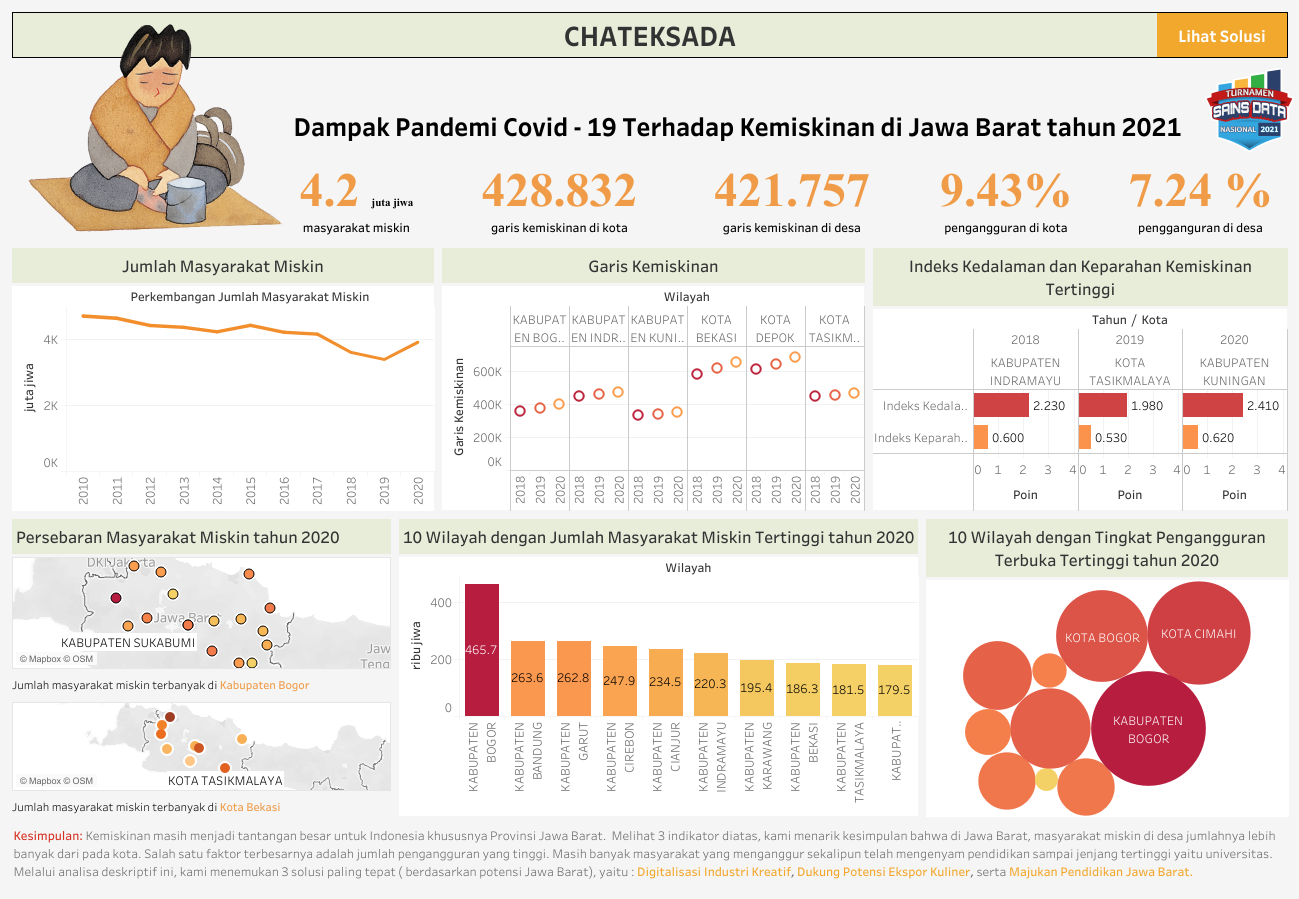

This screenshot's page, from the dashboard's own definition file:
{"tool":"tableau","page":{"name":"Analisa Kemiskinan - Dashboard 1","canvas":[1300,900],"ordinal":0},"visuals":[{"type":"title","box":[8,8,1284,54]},{"type":"dashboard-object","box":[1157,13,130,44]},{"type":"image","param":"Image/pngwing.com (2).png","box":[7,22,299,211]},{"type":"blank","box":[8,62,1284,20.4]},{"type":"image","param":"Image/logo-datathon-2021_turnamen-2-stroke-putih-1024x966.png","box":[1204,67,102,86]},{"type":"text","box":[8,82.4,267,162]},{"type":"text","box":[275,82.4,163,162]},{"type":"text","box":[438,82.4,243,162]},{"type":"text","box":[681,82.4,222,162]},{"type":"text","box":[903,82.4,205.9,162]},{"type":"text","box":[1108.9,82.4,183.1,162]},{"type":"text","box":[291,86,932,78]},{"type":"worksheet","title":"Jumlah Masyarakat Miskin","mark":"Line","rows":["F2"],"cols":["F1"],"box":[8,244.4,430,270.6]},{"type":"worksheet","title":"Garis Kemiskinan","mark":"Shape","cols":["F1"],"box":[438,244.4,431,270.6]},{"type":"worksheet","title":"Indeks Kedalaman dan Keparahan Kemiskinan","mark":"Automatic","cols":["Tahun","Kota"],"box":[869,244.4,423,270.6]},{"type":"worksheet","title":"Kabupaten - Persebaran Jumlah Masyarakat Miskin 2020","mark":"Automatic","box":[8,515,387,183]},{"type":"worksheet","title":"Rangking Wilayah dengan Jumlah Masyarakat Miskin Terbanyakk","mark":"Bar","rows":["F2"],"cols":["F1"],"box":[395,515,527.3,305]},{"type":"worksheet","title":"Jumlah pengangguran tahun 2020","mark":"Circle","box":[922.3,515,369.7,305]},{"type":"worksheet","title":"Kota - Persebaran Jumlah Masyarakat Miskin 2020","mark":"Automatic","box":[8,698,387,122]},{"type":"text","box":[11,806,1285,93]}]}

Visuals, with their boxes in screenshot pixels (x1, y1, x2, y2), scaled from the page's 1300x900 canvas onto the 1299x899 screenshot:
title: pyautogui.locateOnScreen(8, 8, 1291, 62)
dashboard-object: pyautogui.locateOnScreen(1156, 13, 1286, 57)
image: pyautogui.locateOnScreen(7, 22, 306, 233)
blank: pyautogui.locateOnScreen(8, 62, 1291, 82)
image: pyautogui.locateOnScreen(1203, 67, 1298, 153)
text: pyautogui.locateOnScreen(8, 82, 275, 244)
text: pyautogui.locateOnScreen(275, 82, 438, 244)
text: pyautogui.locateOnScreen(438, 82, 680, 244)
text: pyautogui.locateOnScreen(680, 82, 902, 244)
text: pyautogui.locateOnScreen(902, 82, 1108, 244)
text: pyautogui.locateOnScreen(1108, 82, 1291, 244)
text: pyautogui.locateOnScreen(291, 86, 1222, 164)
"Jumlah Masyarakat Miskin" worksheet (Line marks): pyautogui.locateOnScreen(8, 244, 438, 514)
"Garis Kemiskinan" worksheet (Shape marks): pyautogui.locateOnScreen(438, 244, 868, 514)
"Indeks Kedalaman dan Keparahan Kemiskinan" worksheet: pyautogui.locateOnScreen(868, 244, 1291, 514)
"Kabupaten - Persebaran Jumlah Masyarakat Miskin 2020" worksheet: pyautogui.locateOnScreen(8, 514, 395, 697)
"Rangking Wilayah dengan Jumlah Masyarakat Miskin Terbanyakk" worksheet (Bar marks): pyautogui.locateOnScreen(395, 514, 922, 819)
"Jumlah pengangguran tahun 2020" worksheet (Circle marks): pyautogui.locateOnScreen(922, 514, 1291, 819)
"Kota - Persebaran Jumlah Masyarakat Miskin 2020" worksheet: pyautogui.locateOnScreen(8, 697, 395, 819)
text: pyautogui.locateOnScreen(11, 805, 1295, 898)
